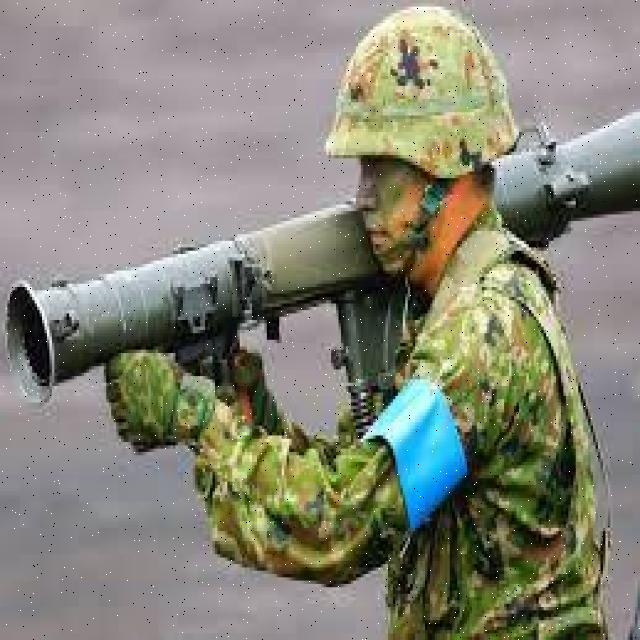bazooka: (6, 97, 640, 417)
